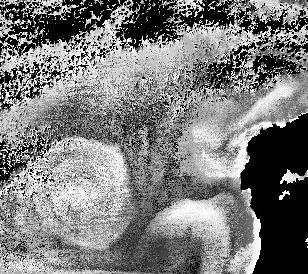AE: (21, 136, 138, 255)
